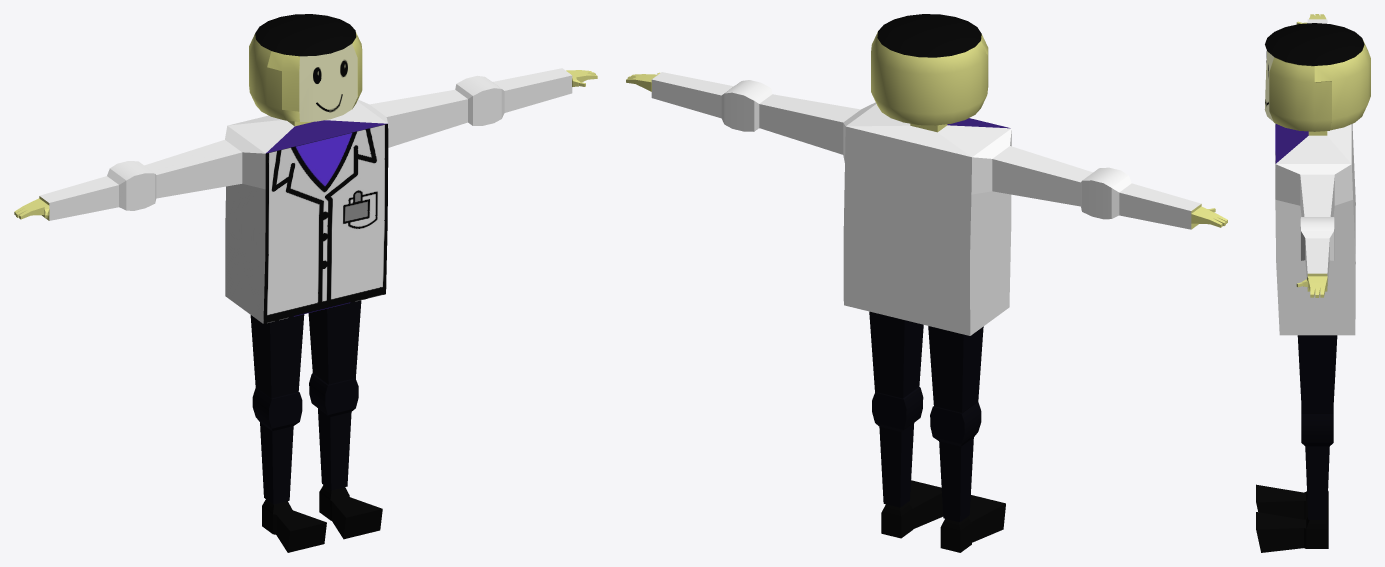
File: Scientist.obj
3 renders of one model, left to right at view 1: azimuth 30°, elevation 25°; view 2: azimuth 150°, elevation 25°; view 3: azimuth 270°, elevation 25°, orthographic. The views are drawn at different scales.
Visible parts, largest first — view 1: scientist; view 2: scientist; view 3: scientist.
Part boxes in pixels (<box>): scientist: <box>14,14,597,552</box>; scientist: <box>626,14,1227,552</box>; scientist: <box>1256,14,1370,552</box>.
Bounding box in the file's own units: 8.02 × 6.54 × 1.38.
